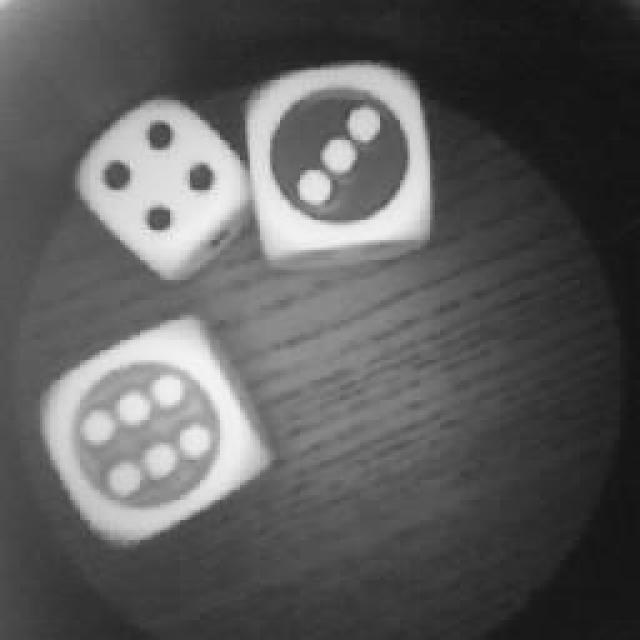dice_3: (242, 52, 438, 260)
dice_4: (87, 88, 245, 262)
dice_6: (32, 307, 272, 545)
